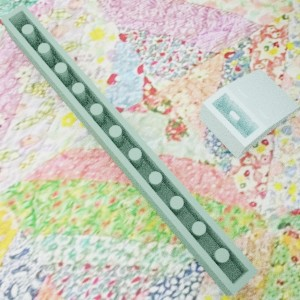lego: (0, 3, 259, 295), (198, 68, 299, 159)
